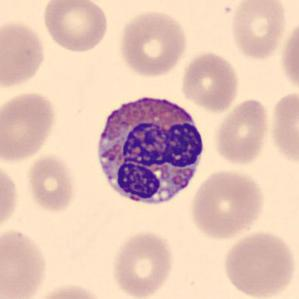Eosinophil: (88, 88, 211, 214)
RBC: (188, 167, 266, 241), (220, 228, 298, 298), (116, 7, 190, 78), (110, 229, 176, 298), (212, 95, 272, 168), (0, 90, 59, 164), (179, 49, 242, 113), (40, 0, 110, 54), (228, 0, 288, 62), (0, 226, 49, 299), (0, 18, 47, 91), (25, 152, 78, 215), (267, 89, 299, 169), (278, 18, 299, 96), (0, 160, 21, 236), (31, 281, 109, 299)
